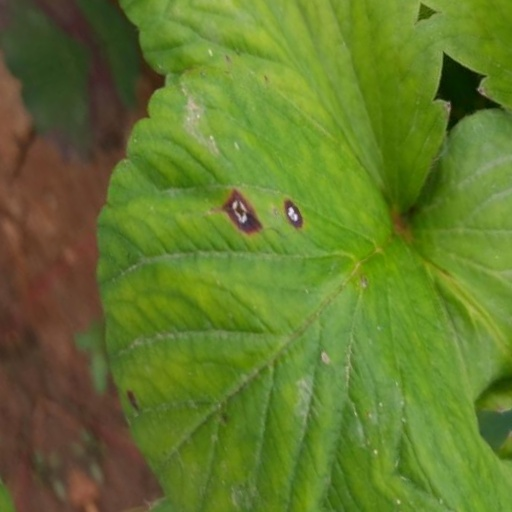Leaf Spot: (104, 54, 442, 511)
